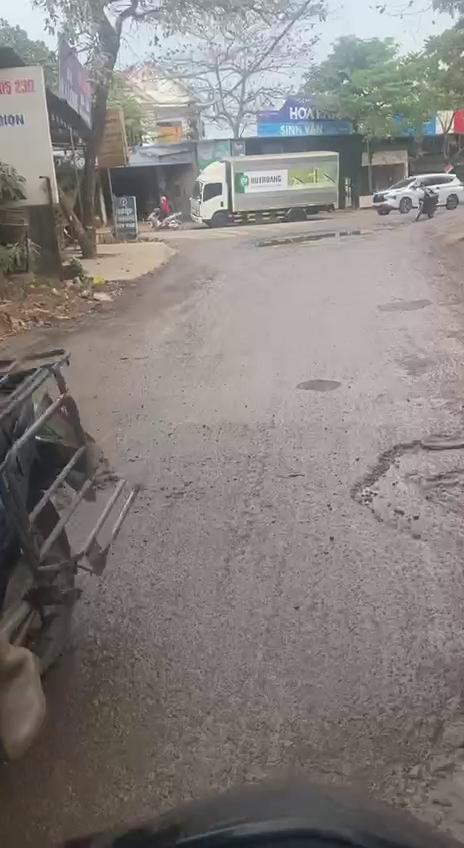pothole: (356, 424, 464, 556)
